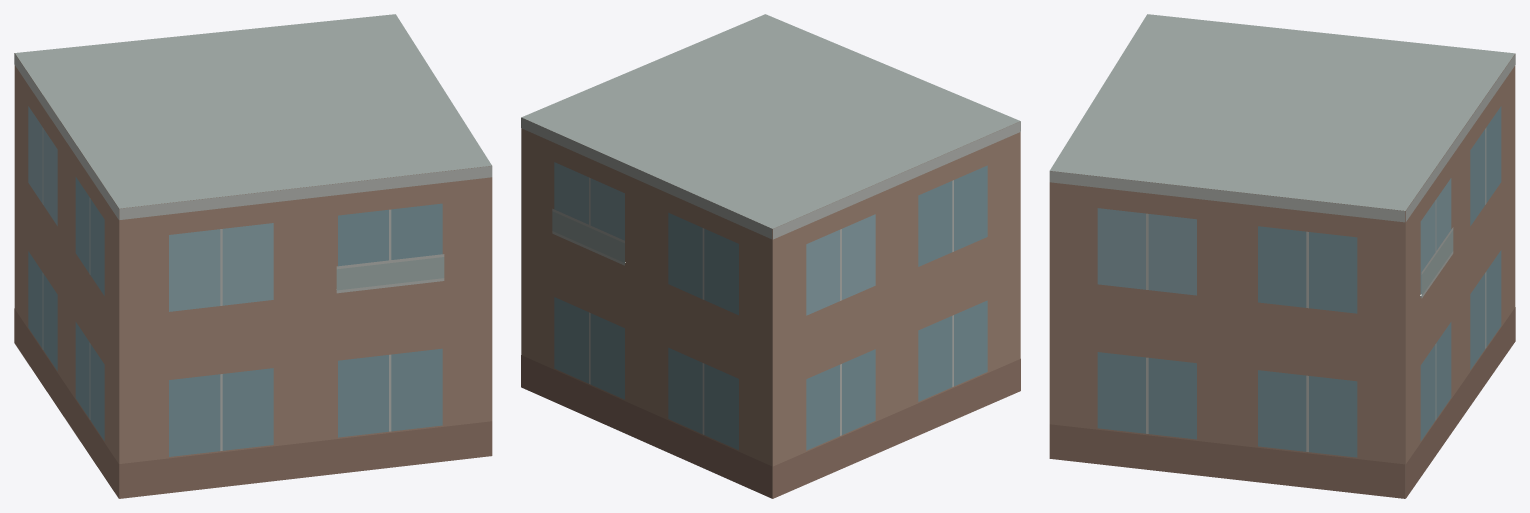
File: survey-upis-32764351.glb
The picture shows the model from 3 angles, left to right: view 1: azimuth 30°, elevation 25°; view 2: azimuth 150°, elevation 25°; view 3: azimuth 270°, elevation 25°; orthographic projection. The views are drawn at different scales.
Parts seen in each view (by area): view 1: survey-upis-32764351.tmp; view 2: survey-upis-32764351.tmp; view 3: survey-upis-32764351.tmp.
Boxes of the visible parts, x1=… form: survey-upis-32764351.tmp: x1=14, y1=14, x2=492, y2=498; survey-upis-32764351.tmp: x1=521, y1=14, x2=1020, y2=498; survey-upis-32764351.tmp: x1=1049, y1=14, x2=1515, y2=498.
Size of the model in its own units: 8.96 by 6.1 by 8.96.
